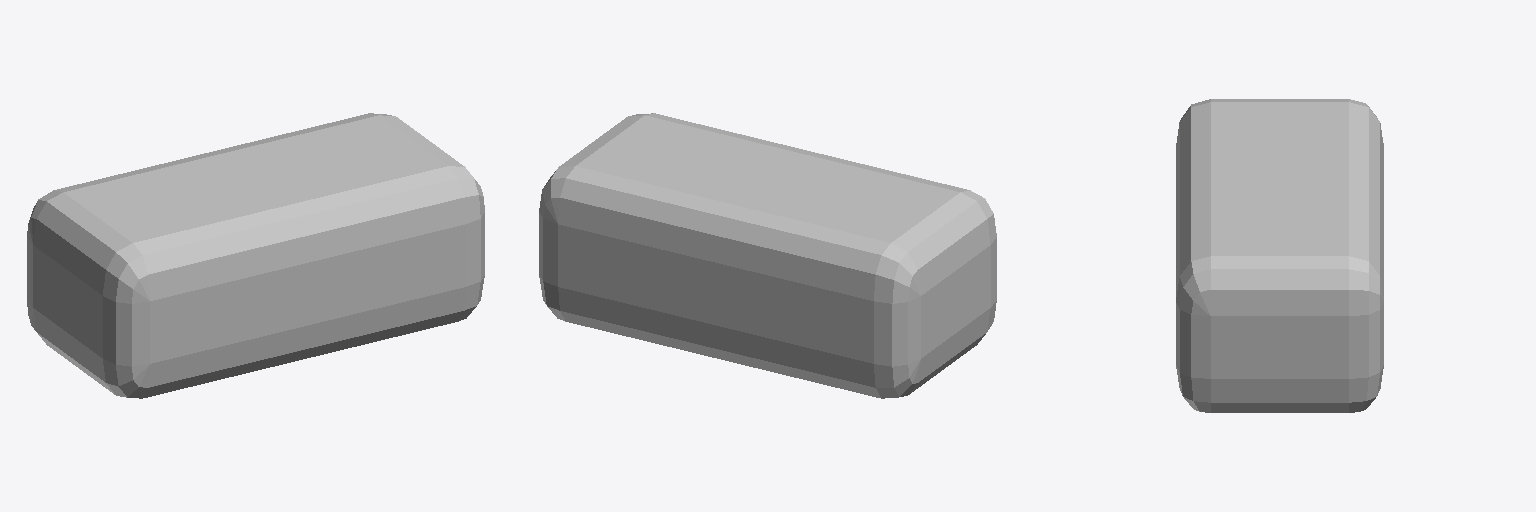
Rendered from slantblock.obj.
3 renders of one model, left to right at view 1: azimuth 30°, elevation 25°; view 2: azimuth 150°, elevation 25°; view 3: azimuth 270°, elevation 25°, orthographic.
Visible parts, largest first — view 1: Box001; view 2: Box001; view 3: Box001.
Part boxes in pixels (x1,y1,x2,y2): Box001: (27,113,484,398); Box001: (539,113,996,398); Box001: (1176,99,1383,412).
Bounding box in the file's own units: 2.08 × 0.8121 × 0.9986.